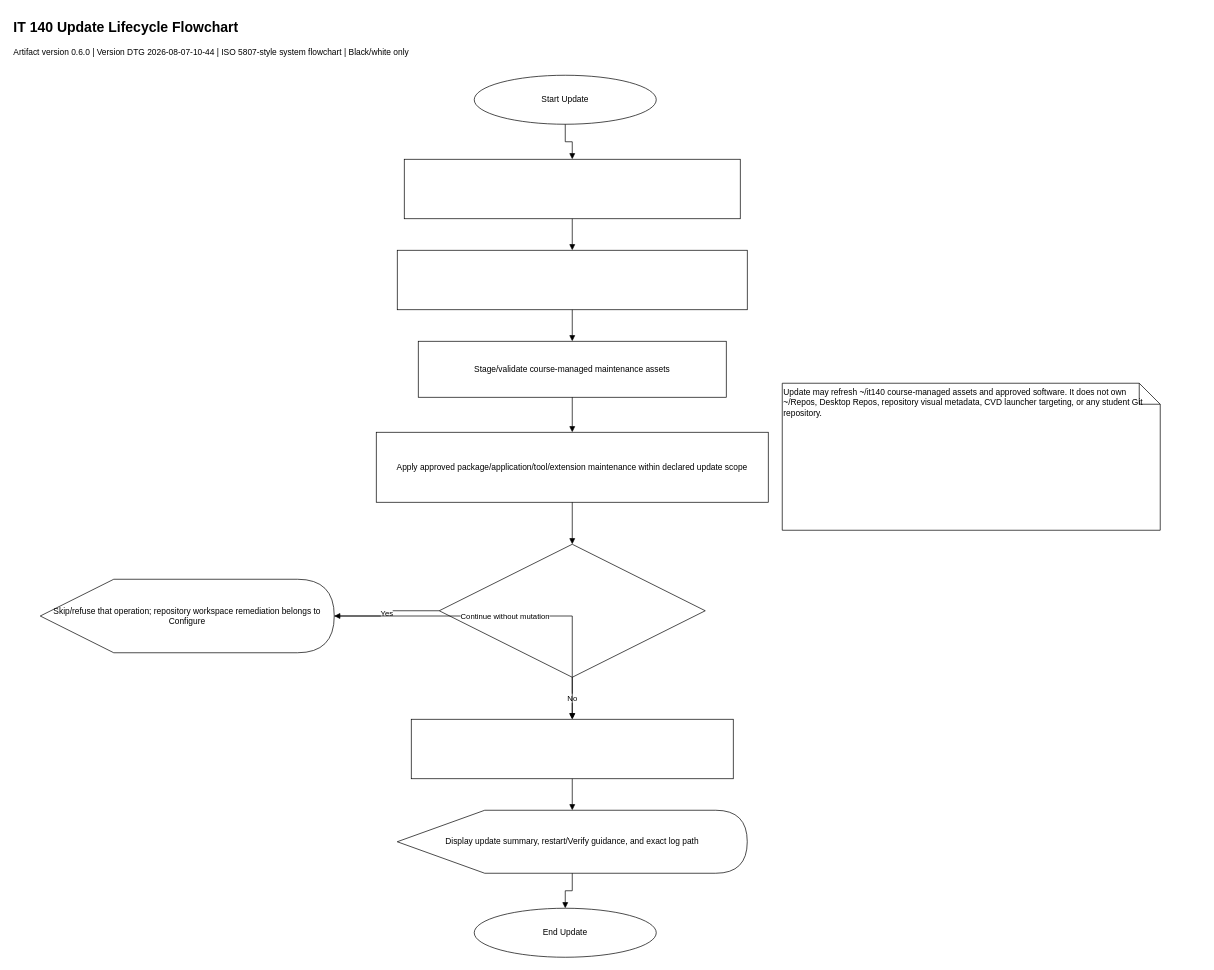
Image size: 1214x970. Some labels were removed from this diagram. The shapes that lost their labels are listed below. From the top down, each one's centre as x and y in pixels, then its label:
the point at 572,189: Parse options; start log; validate platform/profile/manifest
the point at 572,280: Resolve initial-baseline, initial-course-master, or periodic-maintenance mode
the point at 572,610: Would an operation mutate ~/Repos or a repository beneath it?
the point at 572,749: Run post-update checks and determine restart requirement
